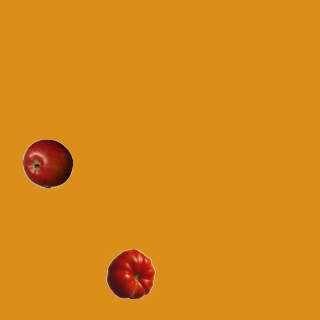Apple Braeburn: (22, 138, 72, 188)
Tomato 3: (105, 248, 155, 298)
